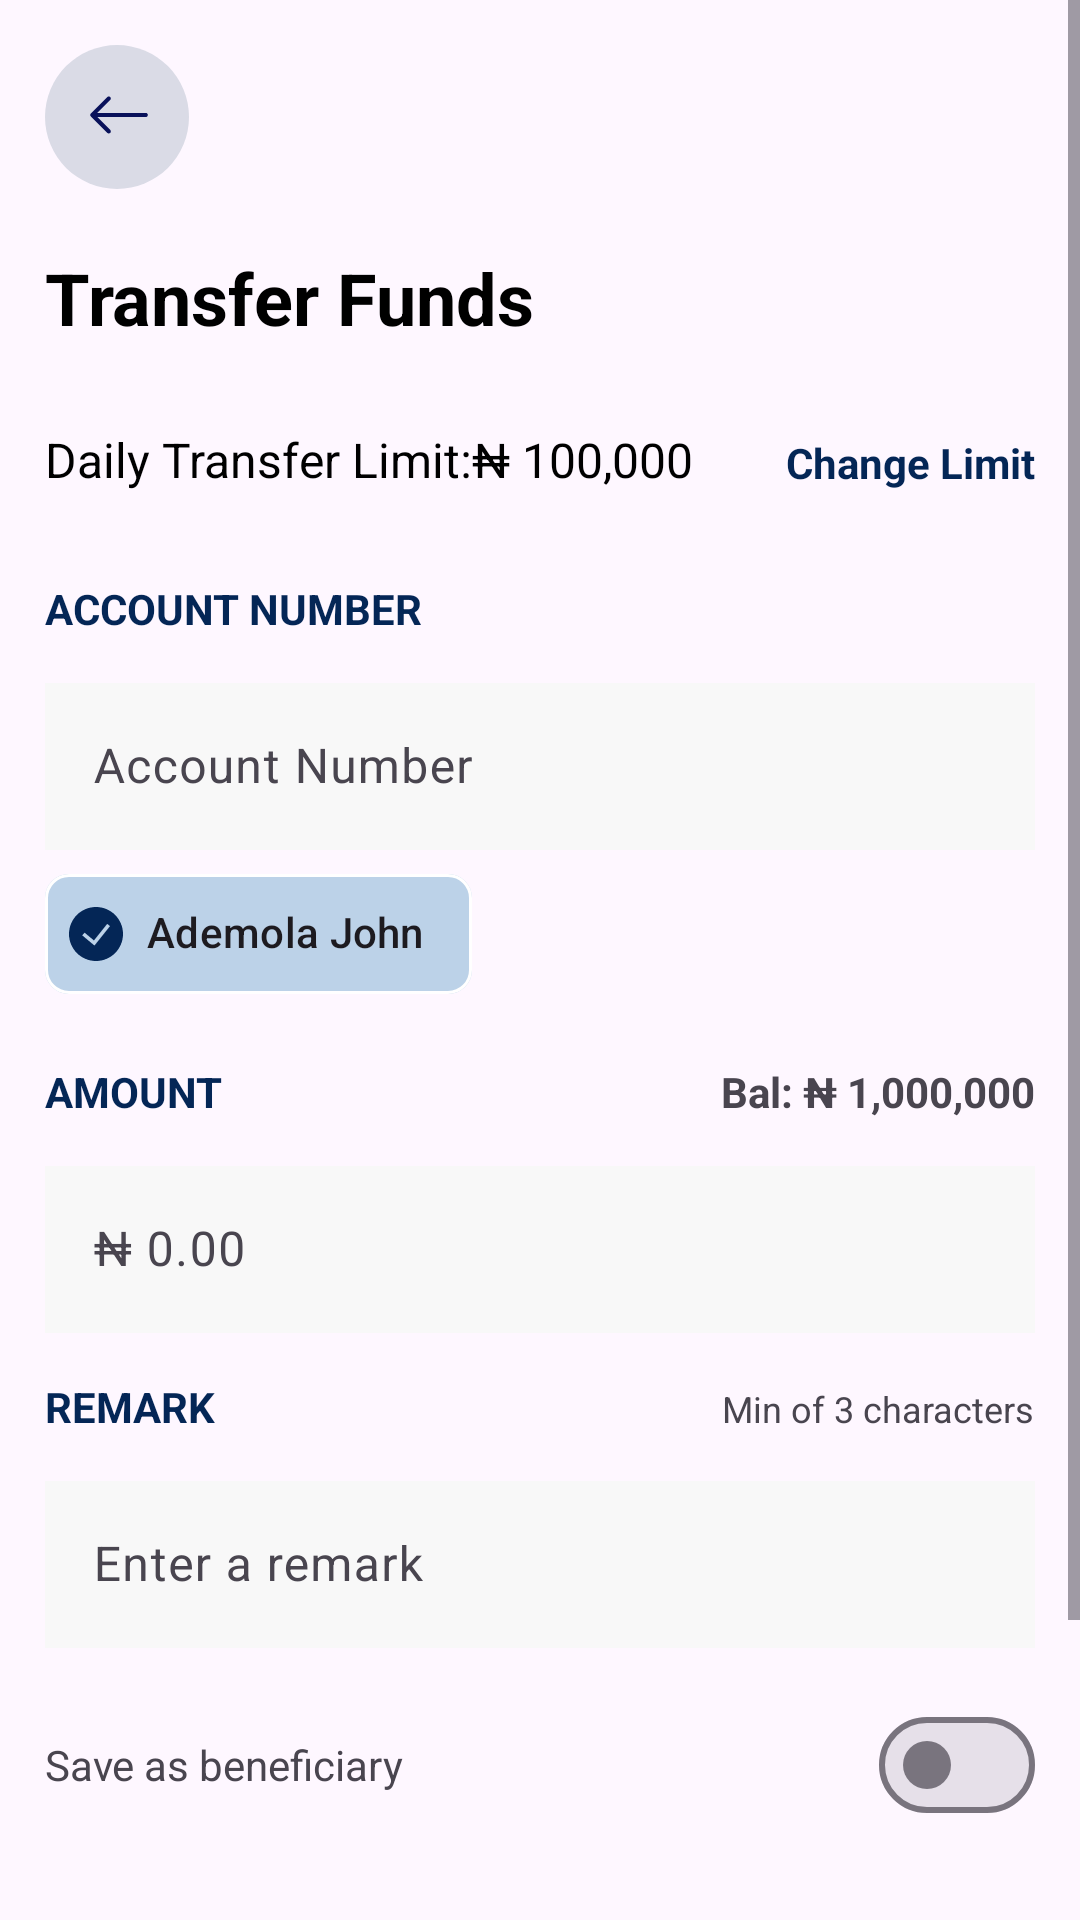

Where icons sit on this 1080 × 1920 app screen, as (x1, y1, x2, y2):
Arrow Back: (45, 45, 189, 189)
